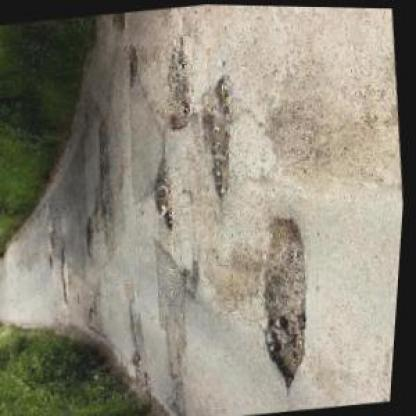pothole: (248, 209, 329, 388), (192, 71, 249, 201), (160, 44, 201, 129), (148, 155, 180, 230), (180, 254, 211, 298), (58, 246, 76, 304), (120, 42, 142, 84), (83, 214, 103, 256)
